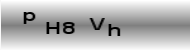8: (61, 21, 75, 34)
H: (44, 20, 60, 36)
V: (89, 18, 104, 30)
h: (107, 22, 120, 37)
p: (21, 11, 36, 26)
